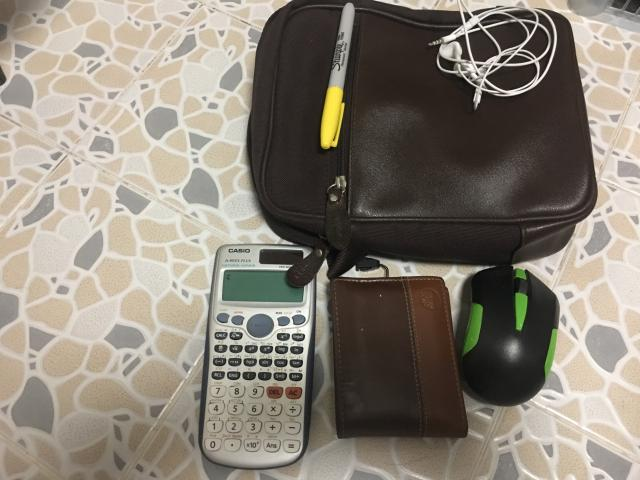Mouse: (461, 265, 559, 406)
Pen: (320, 2, 355, 149)
Wallet: (330, 276, 468, 439)
wire: (429, 4, 558, 109)
